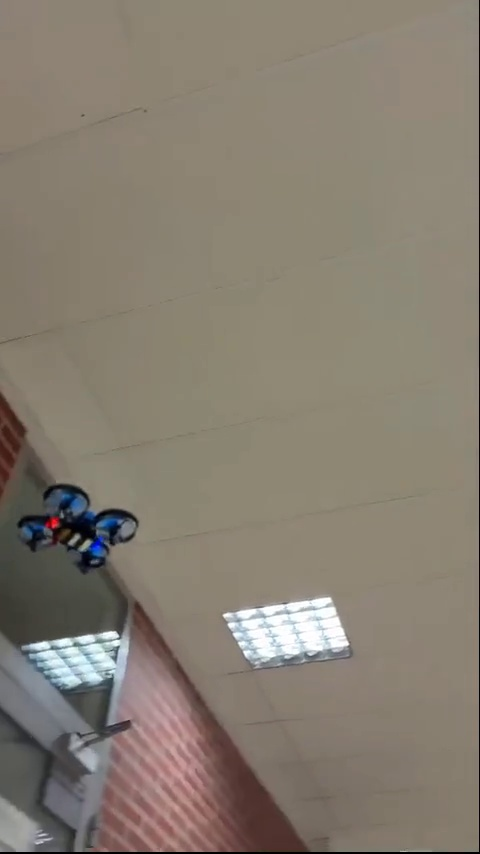drone: (18, 482, 140, 572)
